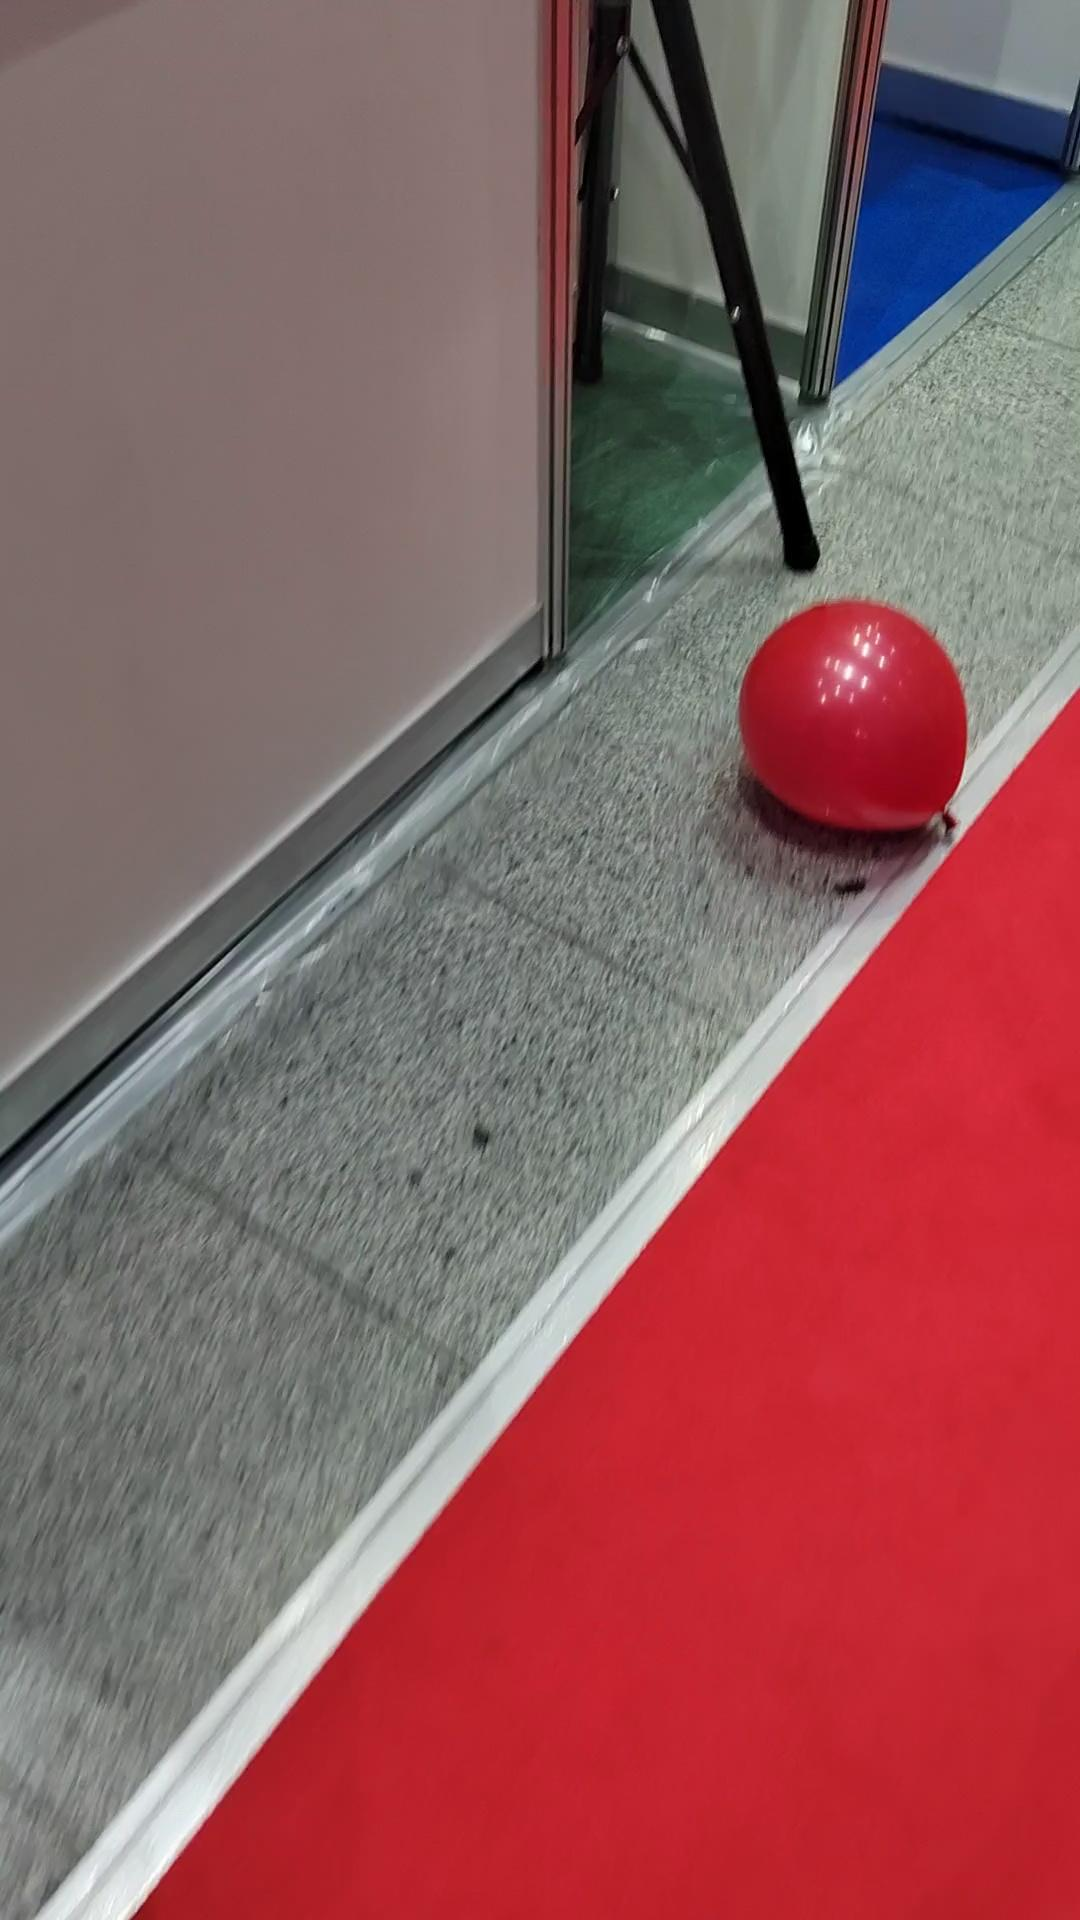red: (731, 591, 972, 857)
